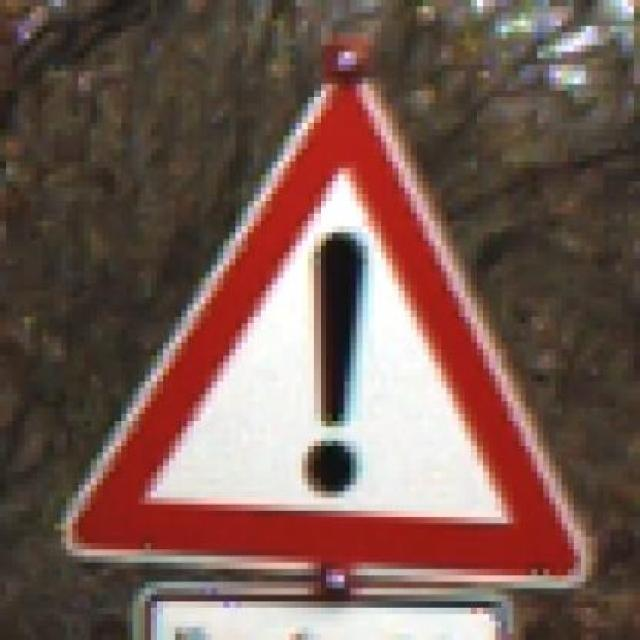Attention Please-: (60, 71, 598, 595)
